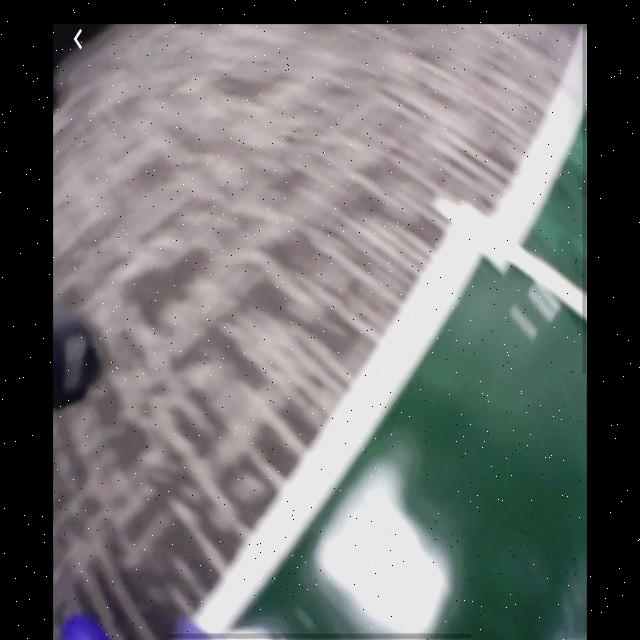ball: (59, 612, 110, 640)
